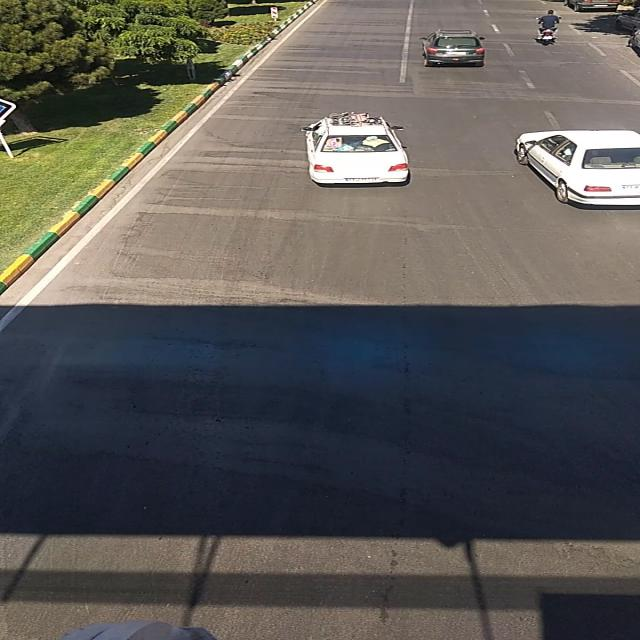car: (509, 128, 639, 210), (300, 118, 415, 188), (413, 29, 490, 69), (563, 1, 621, 10)
motor: (537, 10, 562, 44)
